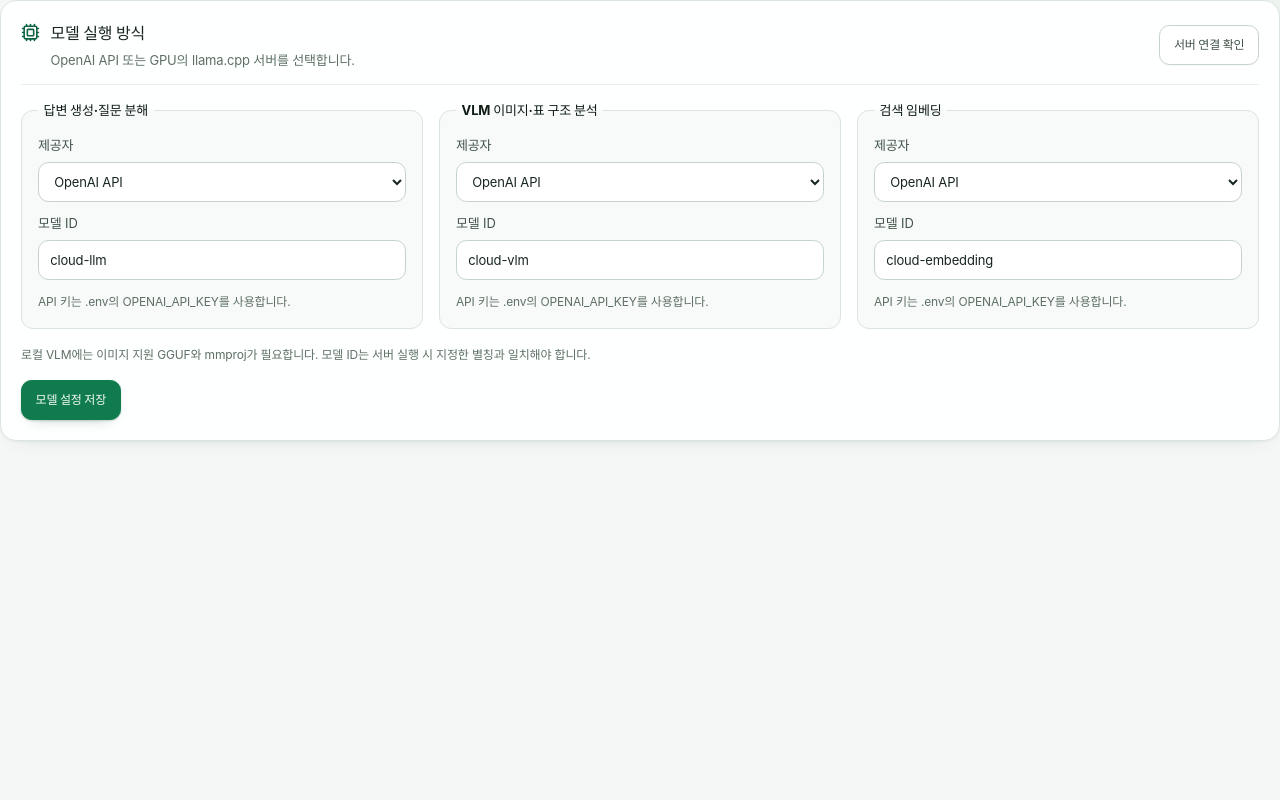
Scenario: InferenceSettingsPanel › saves one local stage while retaining the other cloud stages and explains restart
Step 1. Select "로컬 llama.cpp" in the dropdown labelled "제공자" below "답변 생성·질문 분해" → (222, 182), box x1=38 y1=162 x2=406 y2=202
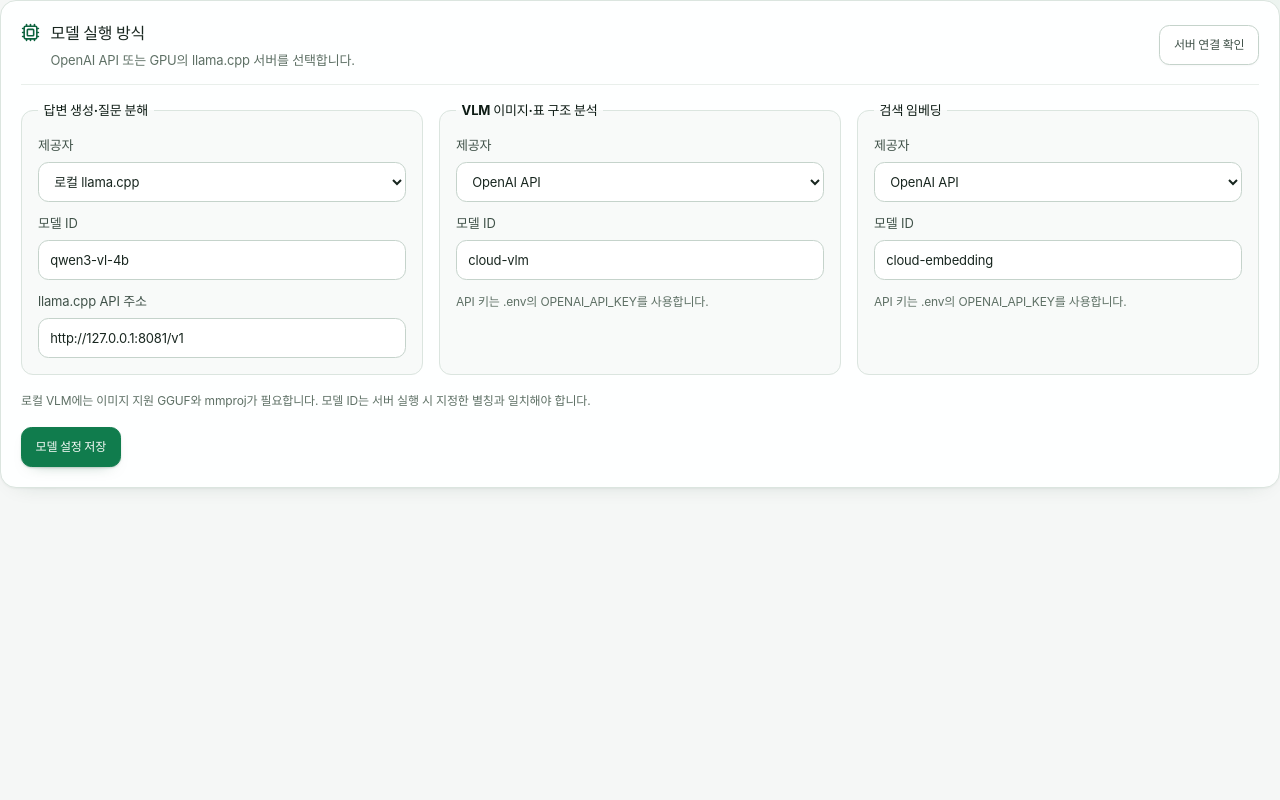
Expected: the field showing "qwen3-vl-4b" below "답변 생성·질문 분해" is shown, x1=38 y1=240 x2=406 y2=280
Step 2. Click the button "모델 설정 저장" → click(71, 446), box x1=21 y1=426 x2=121 y2=466
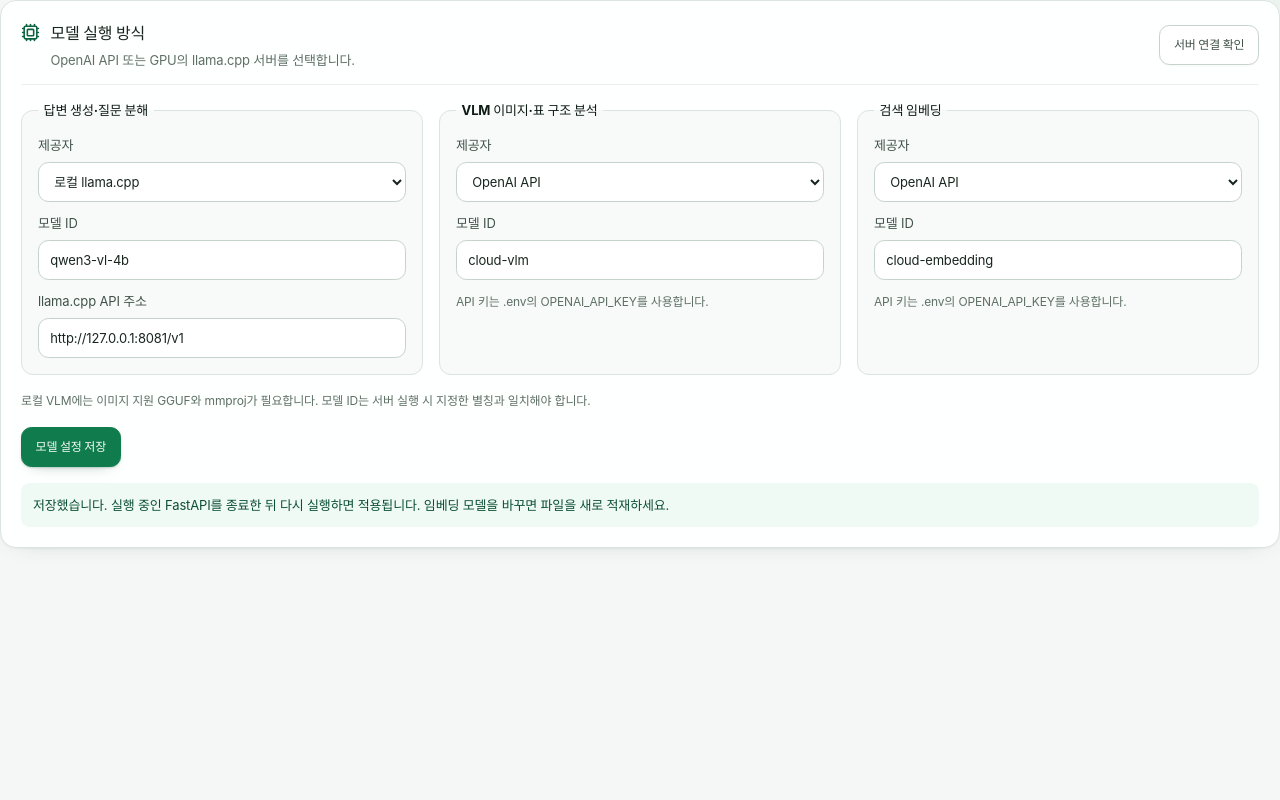
Expected: the message shows "FastAPI를 종료한 뒤 다시 실행", x1=33 y1=496 x2=669 y2=512
